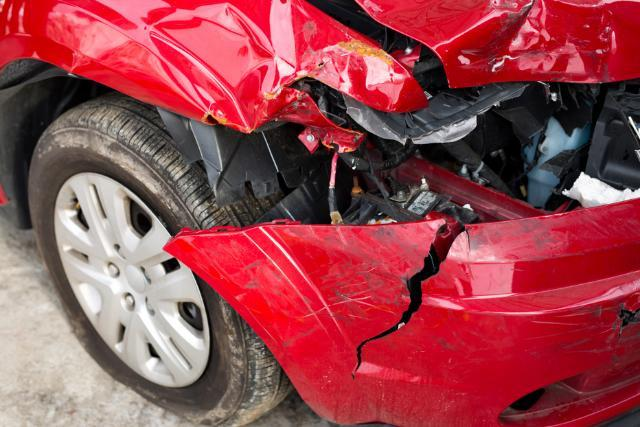Bumper: (169, 179, 640, 427)
Fender: (0, 0, 372, 149)
Light: (300, 77, 640, 196)
